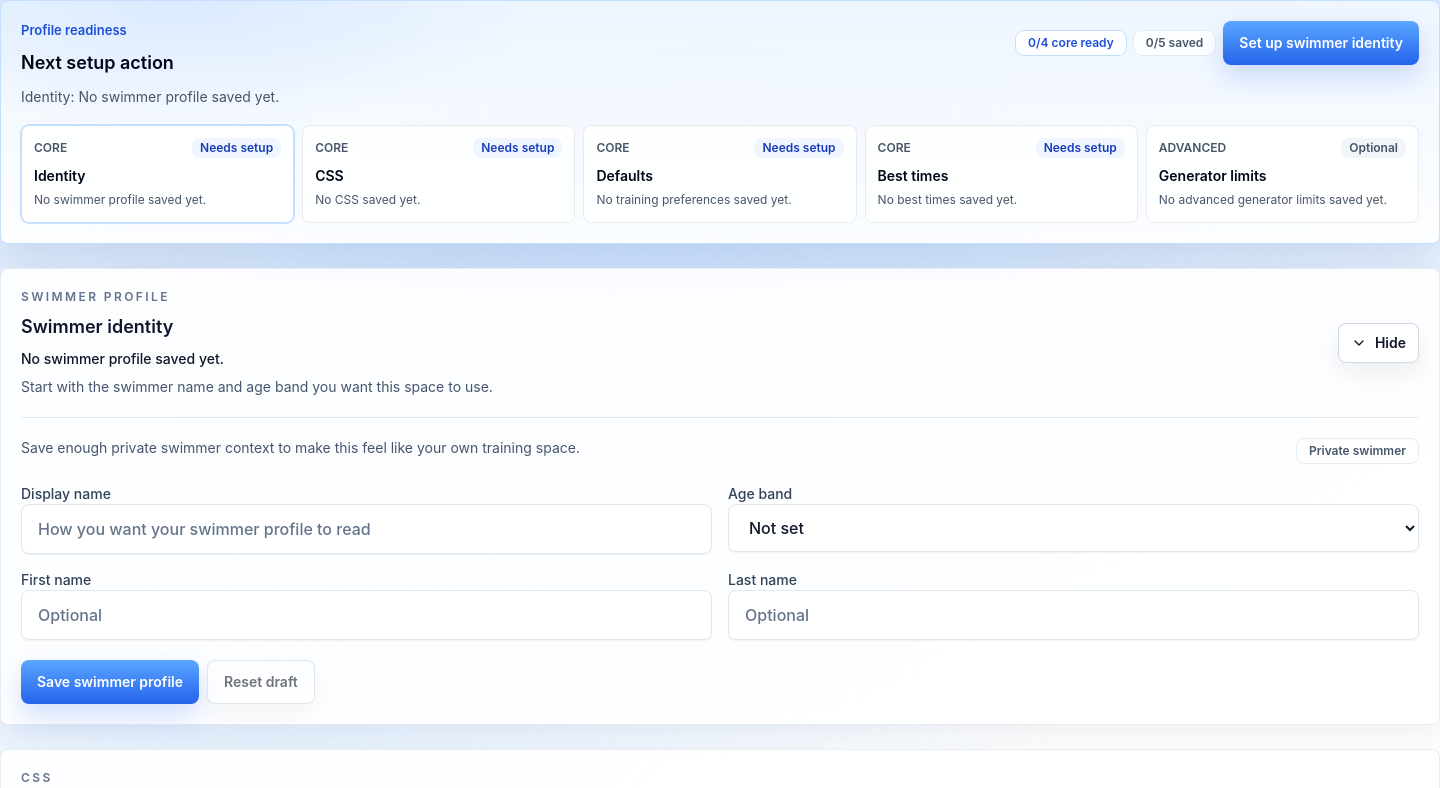
Test: AthleteProfileHub › saves profile updates and refreshes current snapshot
The width and height of the screenshot is (1440, 788).
Type "Poolside Stian" into the field with test id "athlete-profile-display-name" at (366, 528), box [21,504,712,554]
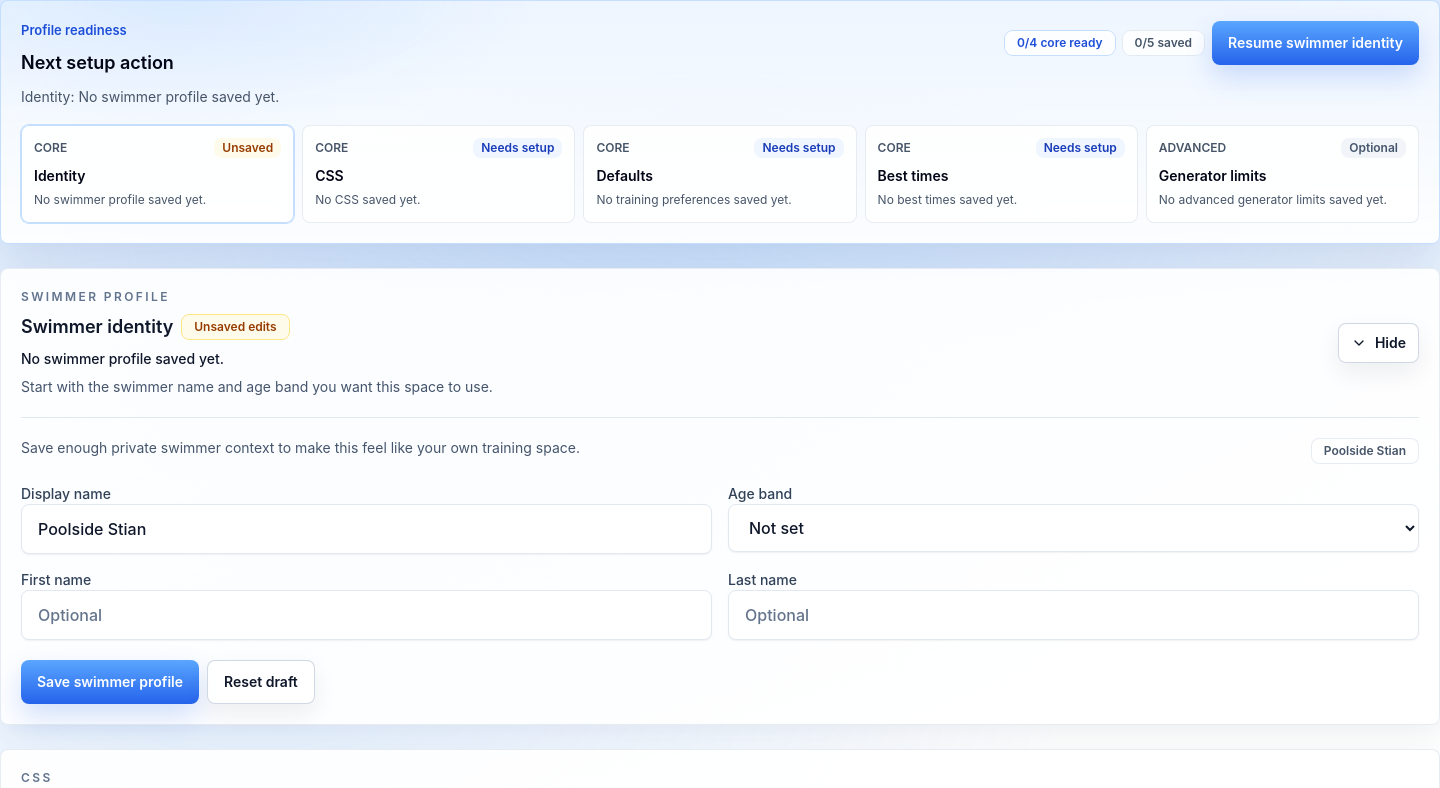
Click the button with test id "athlete-profile-save" at (110, 682), box [21,660,199,704]
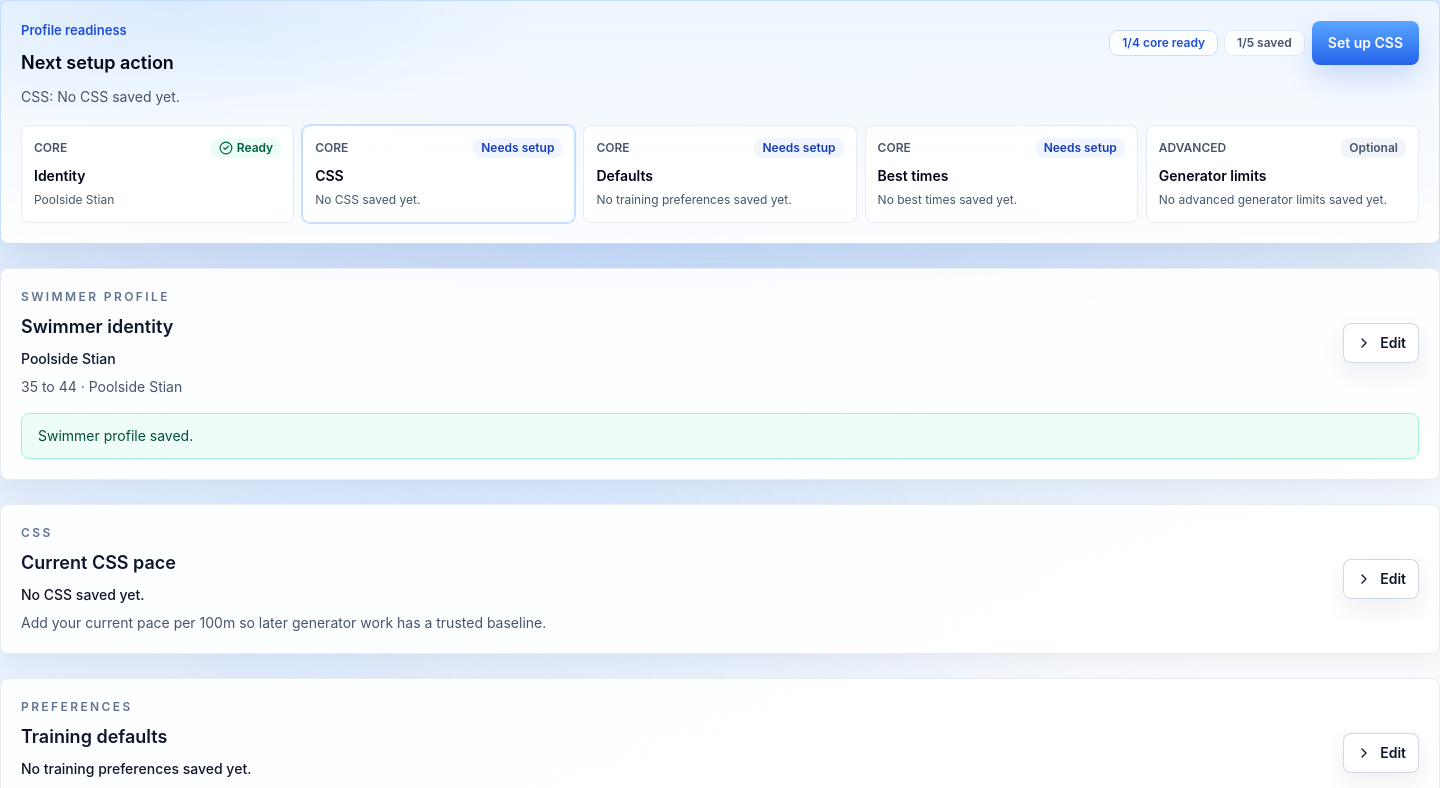
expect the text "Swimmer profile saved." is shown: met, box [21,412,1419,458]
expect the text "Poolside Stian" below "CSS: No CSS saved yet." is shown: met, box [34,192,114,206]
Click the button with test id "athlete-profile-section-toggle-profile" at (1381, 342), box [1343,322,1419,362]
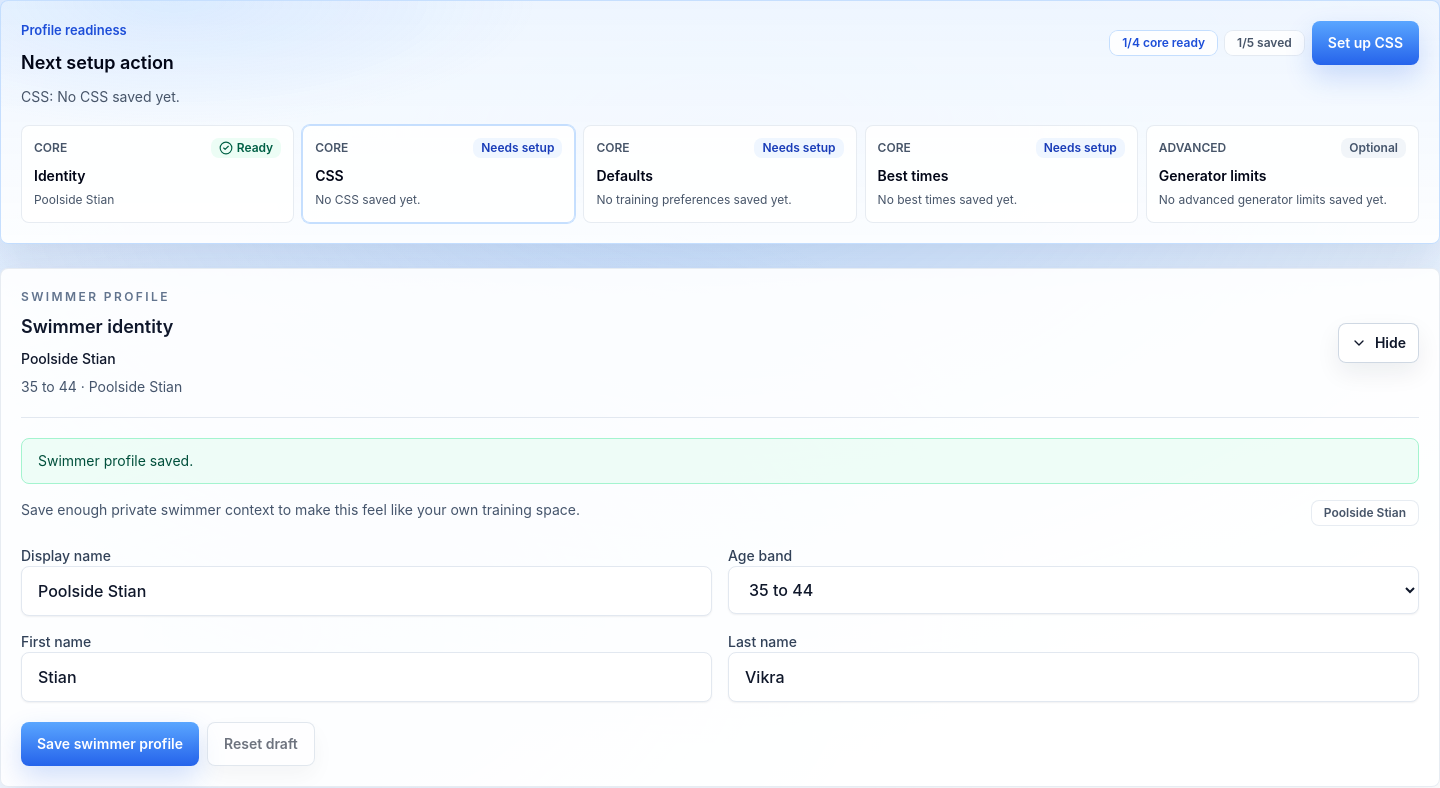
expect the field with test id "athlete-profile-display-name" holds "Poolside Stian": met, box [21,566,712,616]
